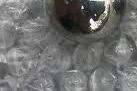ironball: (43, 0, 128, 44)
